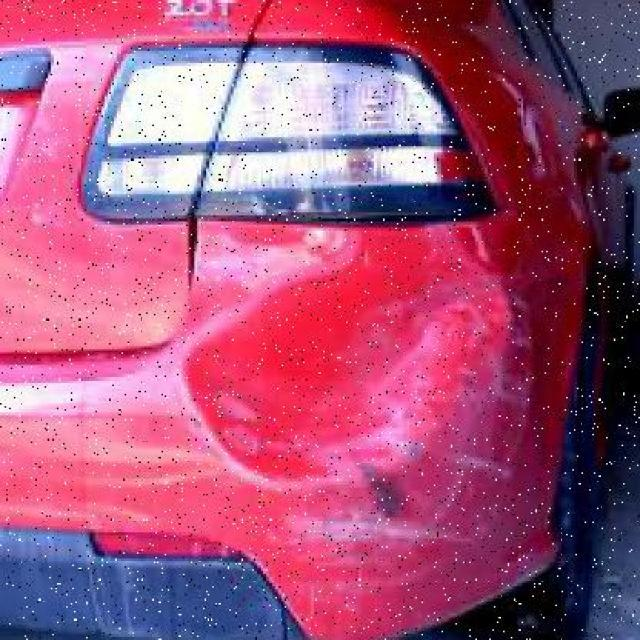car damage: (169, 221, 514, 499)
